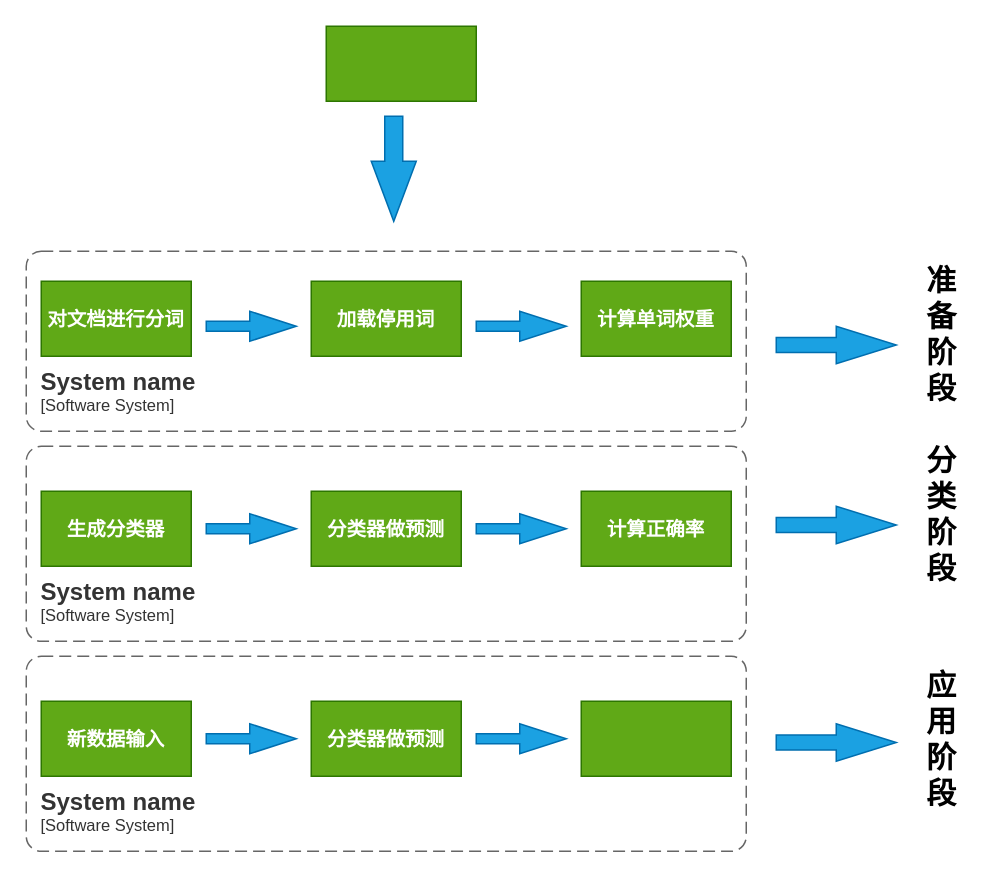
The diagram is 998 pixels wide and 878 high, and some of its shapes have lost their labels. Here are the shapes that lost their labels. From the top down, the centre of each, then its label:
At (400,63): "文档输入".
At (655,738): "输出分类标签".
